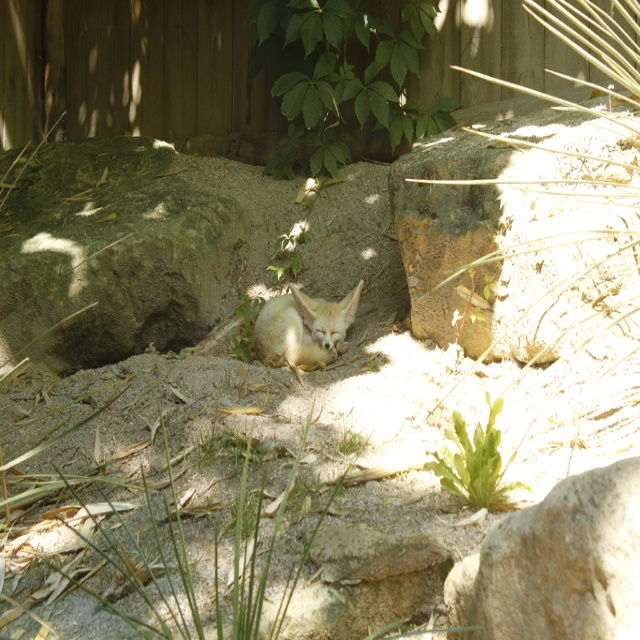Fox: (252, 283, 364, 368)
